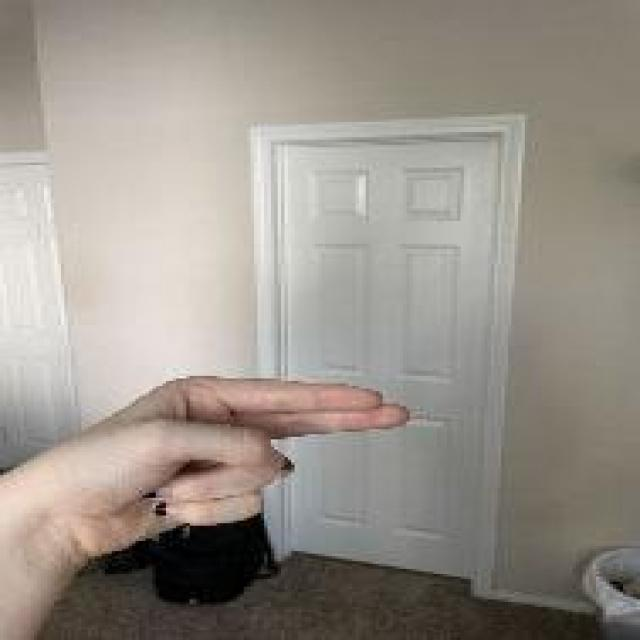H: (29, 368, 418, 556)
